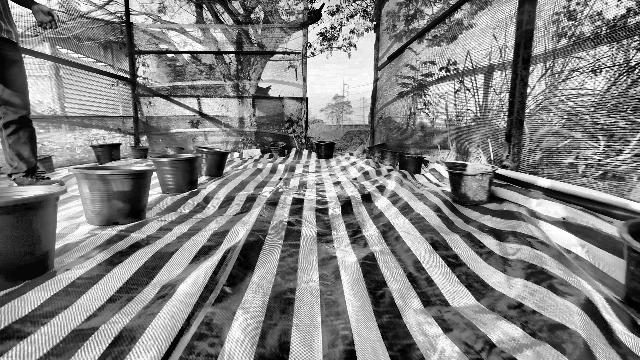pot: (1, 185, 67, 290), (66, 164, 156, 226), (444, 163, 497, 206), (148, 152, 202, 194), (618, 217, 640, 320), (193, 145, 231, 178)
